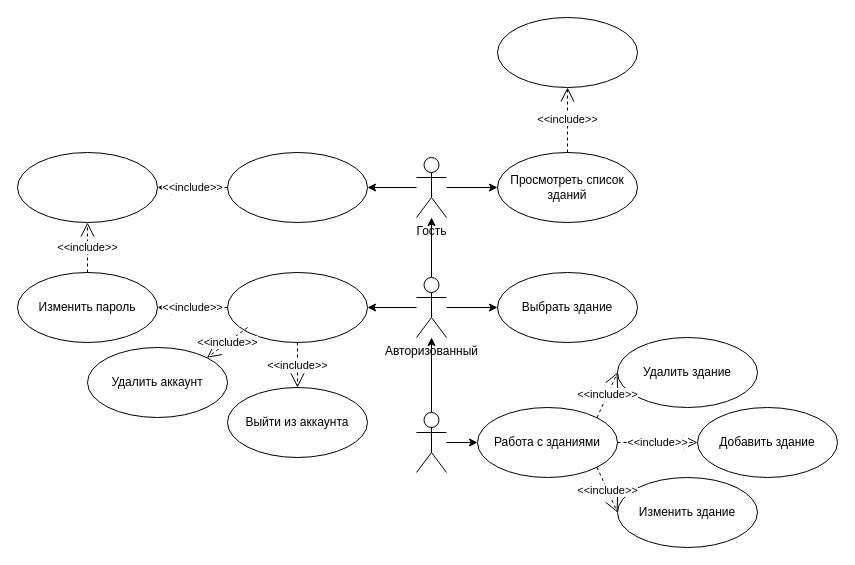
This 855x565 diagram has some shape labels left out. Here are the shapes that lost their labels. From the top down, the centre of each, then its label:
At pixel 567 52: "Найти определенное здание".
At pixel 87 187: "Подтверждение номера телефона".
At pixel 297 187: "Авторизация".
At pixel 297 307: "Редактировать профиль".
At pixel 431 442: "Менеджер".
